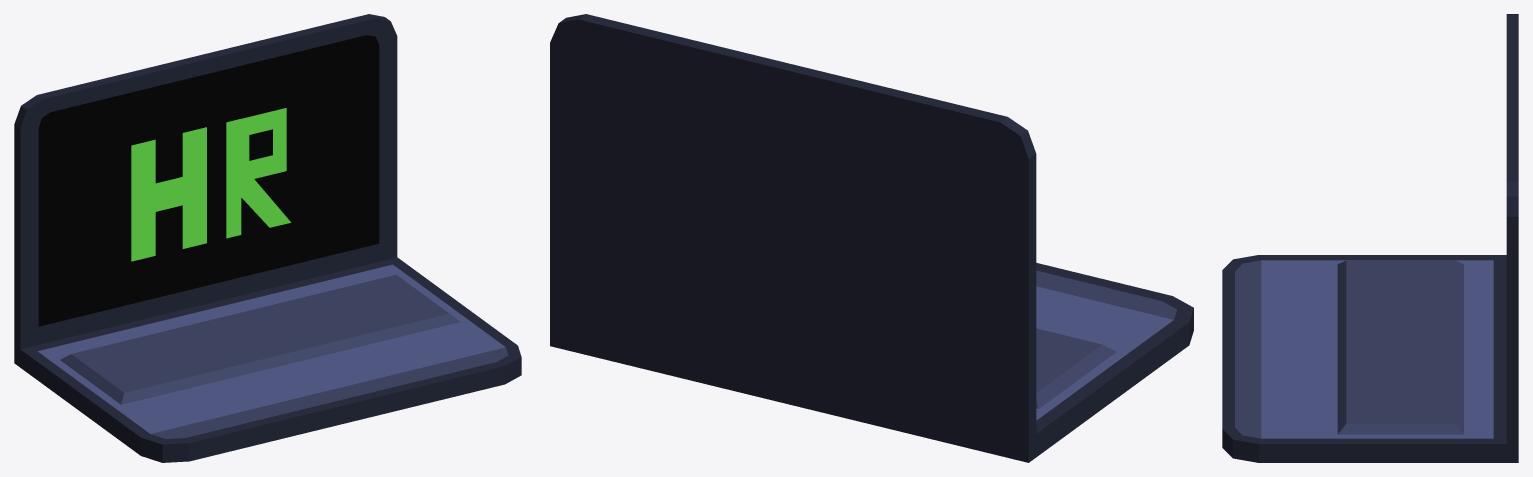
Rendered from Laptop1.fbx.
3 renders of one model, left to right at view 1: azimuth 30°, elevation 25°; view 2: azimuth 150°, elevation 25°; view 3: azimuth 270°, elevation 25°, orthographic. The views are drawn at different scales.
Visible parts, largest first — view 1: Plane.006, Plane.054; view 2: Plane.006; view 3: Plane.006.
Boxes of the visible parts, left/top/right/bottom form: Plane.006: left=14, top=14, right=521, bottom=462; Plane.054: left=131, top=108, right=290, bottom=261; Plane.006: left=550, top=14, right=1193, bottom=462; Plane.006: left=1222, top=14, right=1518, bottom=462.
Size of the model in its own units: 78.47 by 52.27 by 52.
